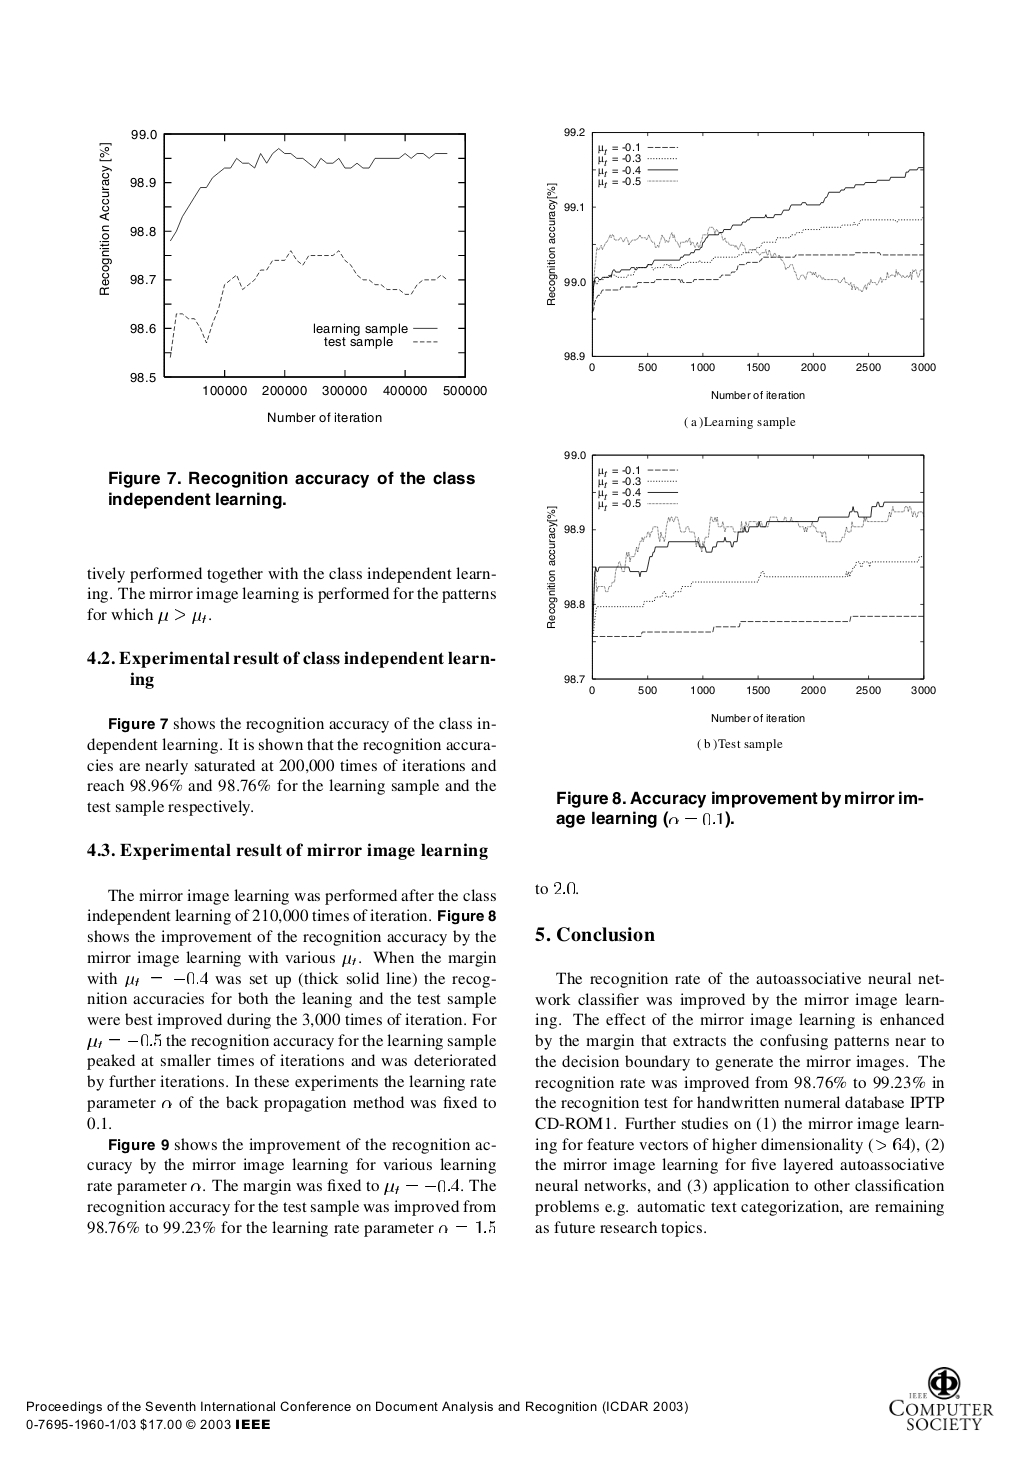figure: (99, 129, 486, 422), (547, 128, 935, 399), (547, 451, 935, 722), (889, 1368, 993, 1430)
